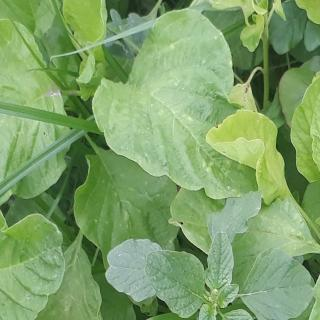kekurangan_mangan: (203, 106, 289, 179), (231, 80, 259, 112)
virus_keriting: (0, 193, 66, 320)
